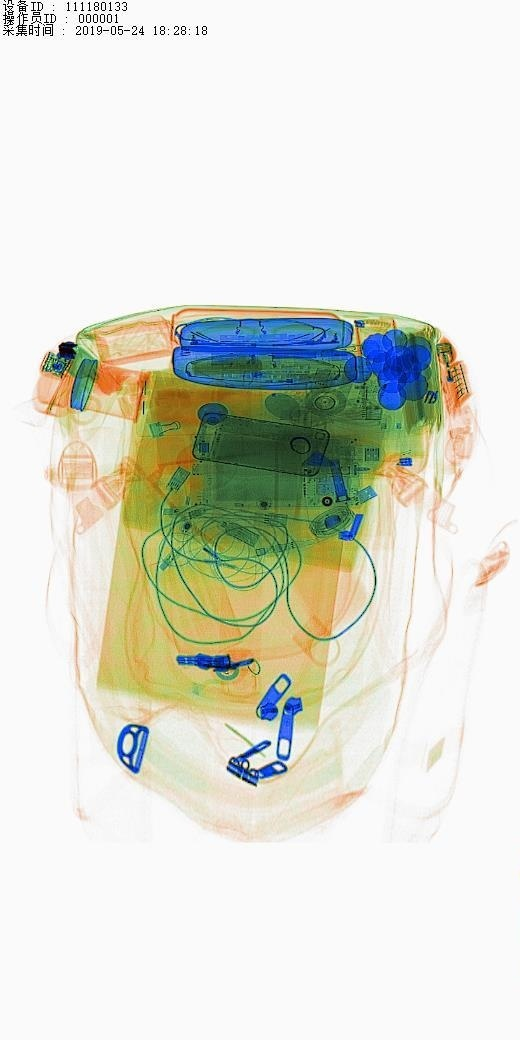NonmetallicFire: (433, 333, 468, 424), (243, 360, 326, 395)
